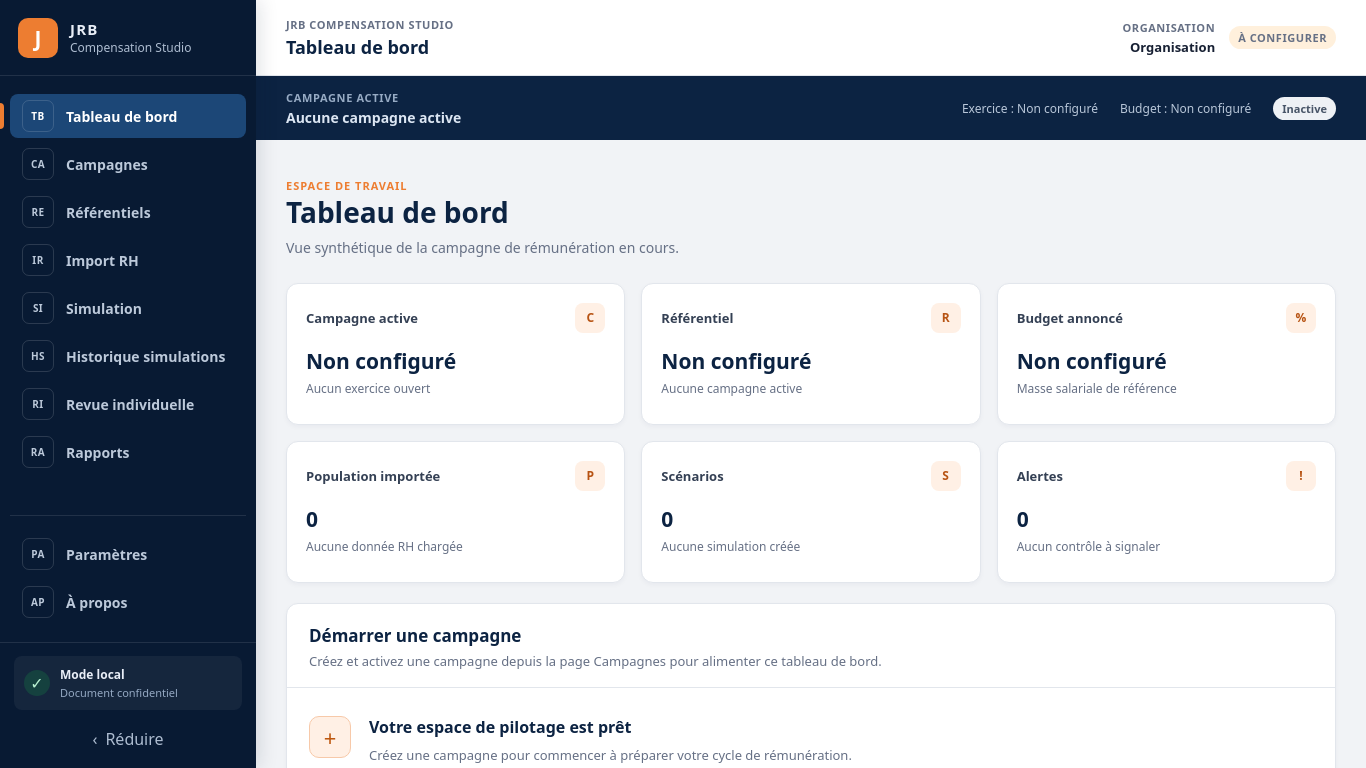
Test case: Lot 2B-UX1 — layout résultats › conserve la navigation et la page Simulation après réduction
Expected: the navigation bar named "Navigation principale" is shown, [0,76,256,642]
Click the button "SI Simulation".
click(128, 308)  # box [10,286,246,330]
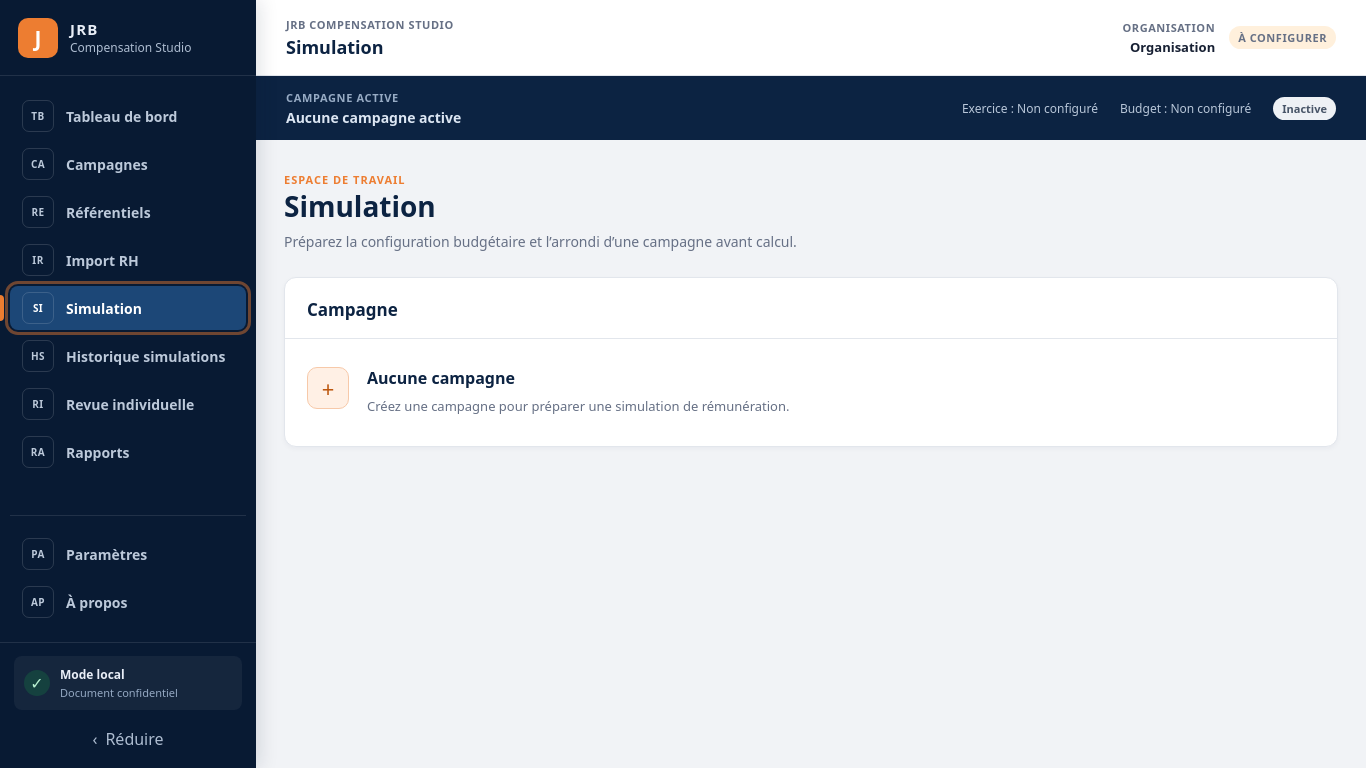
Expected: the heading "Simulation" is shown, [284,187,436,225]
Click the button with test id "sidebar-toggle".
click(128, 739)  # box [10,720,246,758]
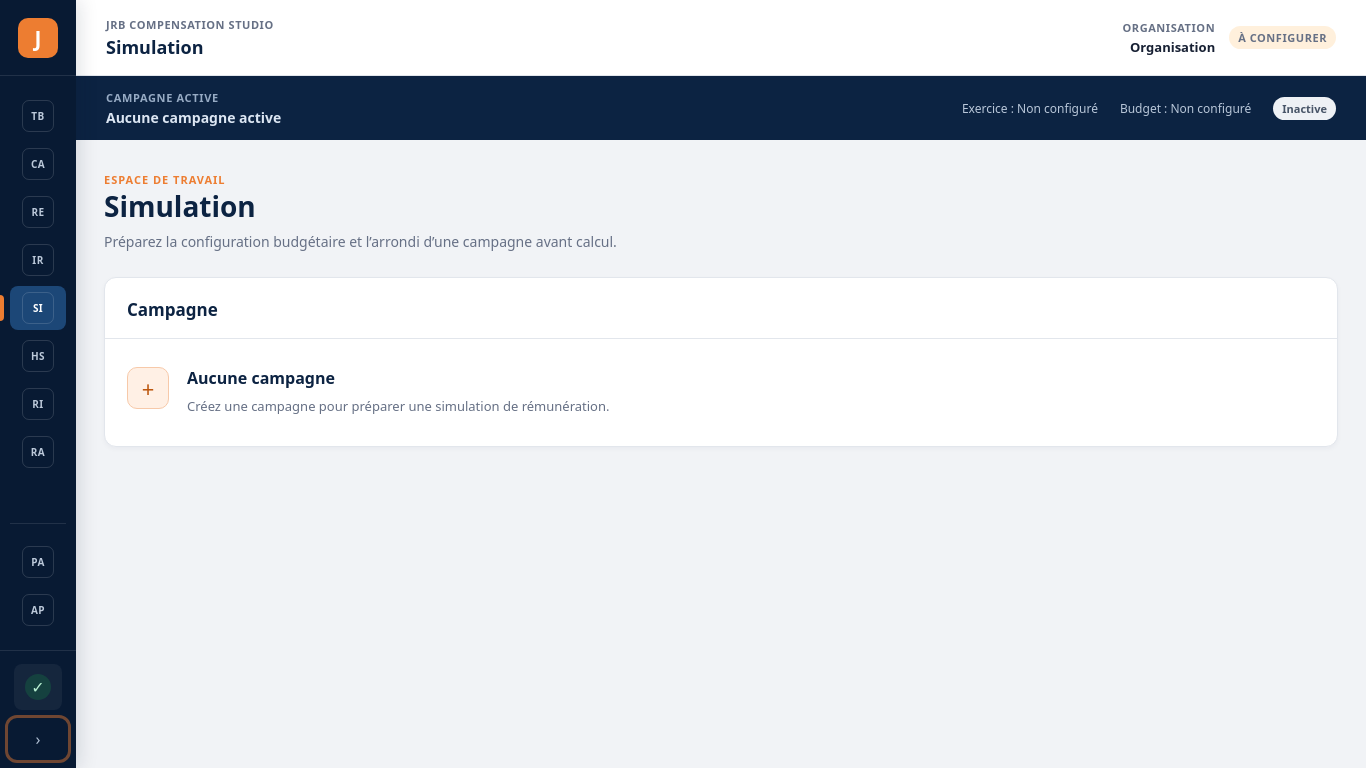
Expected: the heading "Simulation" is shown, [104,187,256,225]
Click the button with aria-label "Historique simulations".
click(38, 356)  # box [10,334,66,378]
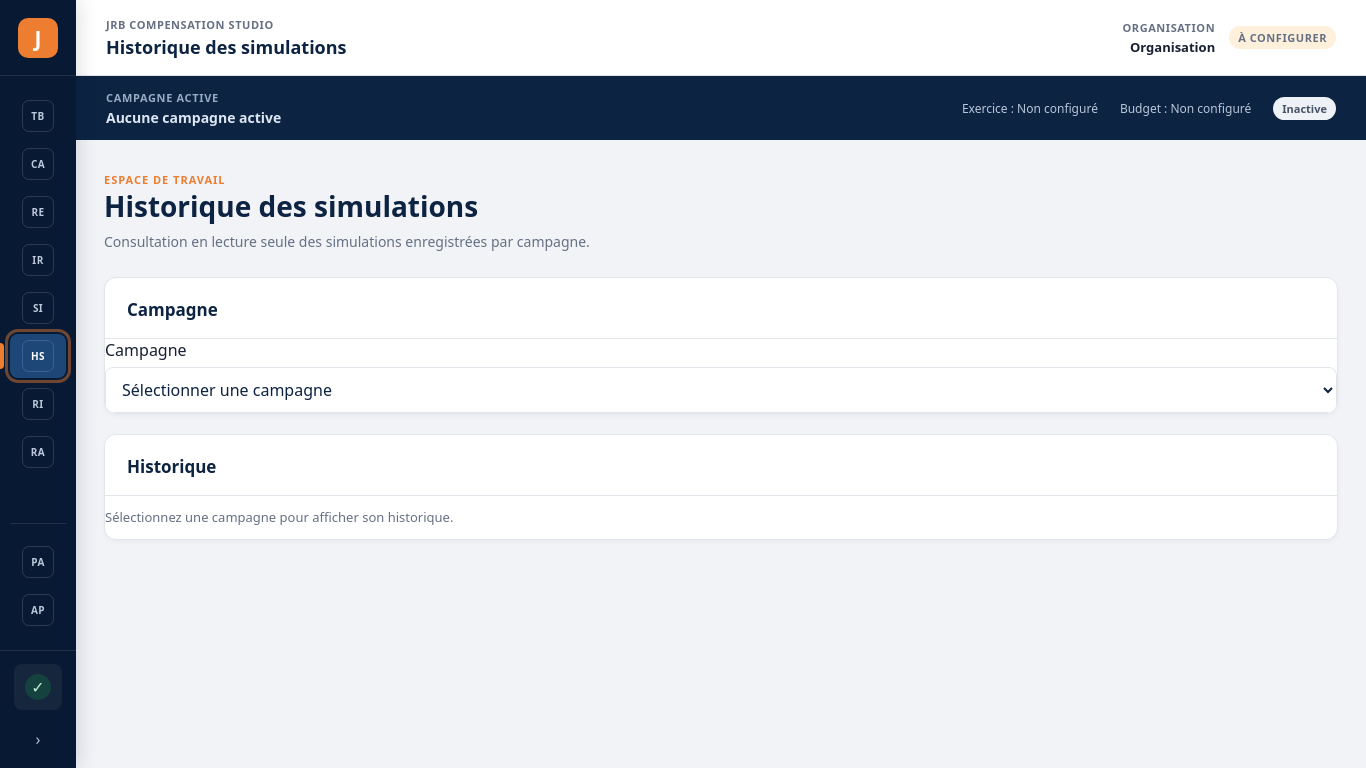
Expected: the heading "Historique des simulations" is shown, [104,187,478,225]
